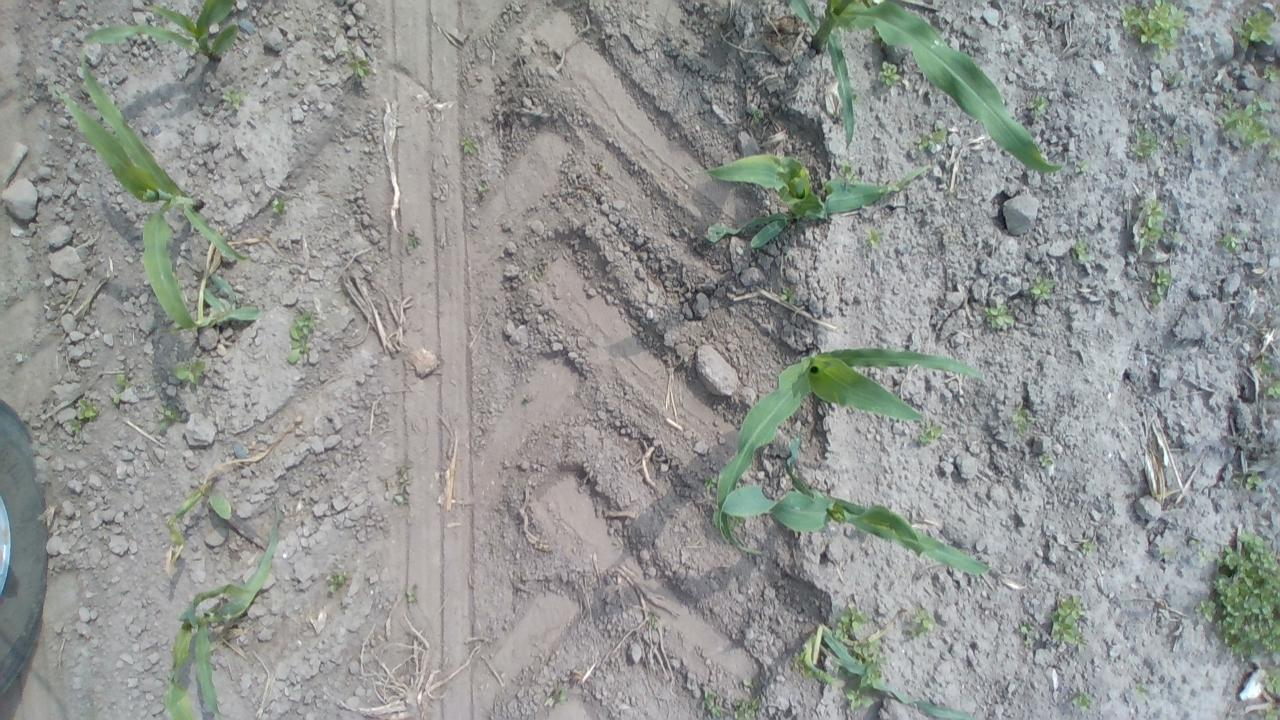Maize: (36, 56, 268, 333), (713, 346, 996, 572), (784, 0, 1068, 184), (705, 444, 1006, 589), (154, 498, 294, 720), (148, 410, 309, 576), (705, 151, 936, 256), (793, 621, 988, 720), (80, 0, 275, 60)
Weeds: (1204, 529, 1280, 663), (1215, 93, 1280, 162), (1120, 0, 1188, 56), (698, 681, 770, 720), (1233, 1, 1280, 55), (1048, 594, 1088, 649), (829, 604, 872, 649), (1136, 199, 1168, 255), (289, 308, 318, 366), (852, 638, 888, 682), (543, 682, 590, 714), (386, 458, 414, 508), (842, 686, 882, 720), (1256, 664, 1280, 720), (1142, 267, 1174, 308), (1250, 358, 1280, 400), (1124, 127, 1160, 162), (982, 302, 1021, 334), (62, 400, 95, 436), (174, 357, 207, 389), (155, 402, 184, 438), (918, 125, 951, 156), (218, 86, 254, 114), (858, 224, 894, 250), (109, 376, 138, 408), (875, 58, 906, 87), (1028, 277, 1060, 305), (348, 52, 374, 86), (404, 226, 428, 262), (906, 606, 934, 635), (459, 132, 484, 164), (266, 190, 294, 218), (915, 419, 944, 446), (1008, 410, 1034, 440), (397, 579, 420, 612), (1026, 90, 1051, 120), (325, 570, 348, 602), (1070, 238, 1094, 268), (474, 178, 496, 210), (836, 160, 859, 190), (1218, 232, 1244, 258), (744, 99, 770, 124), (1069, 690, 1097, 712), (1242, 472, 1268, 495), (778, 282, 802, 306), (1032, 452, 1058, 474), (1152, 544, 1180, 564), (530, 260, 552, 285), (1078, 536, 1102, 558), (1018, 618, 1040, 642), (1263, 66, 1280, 84)
